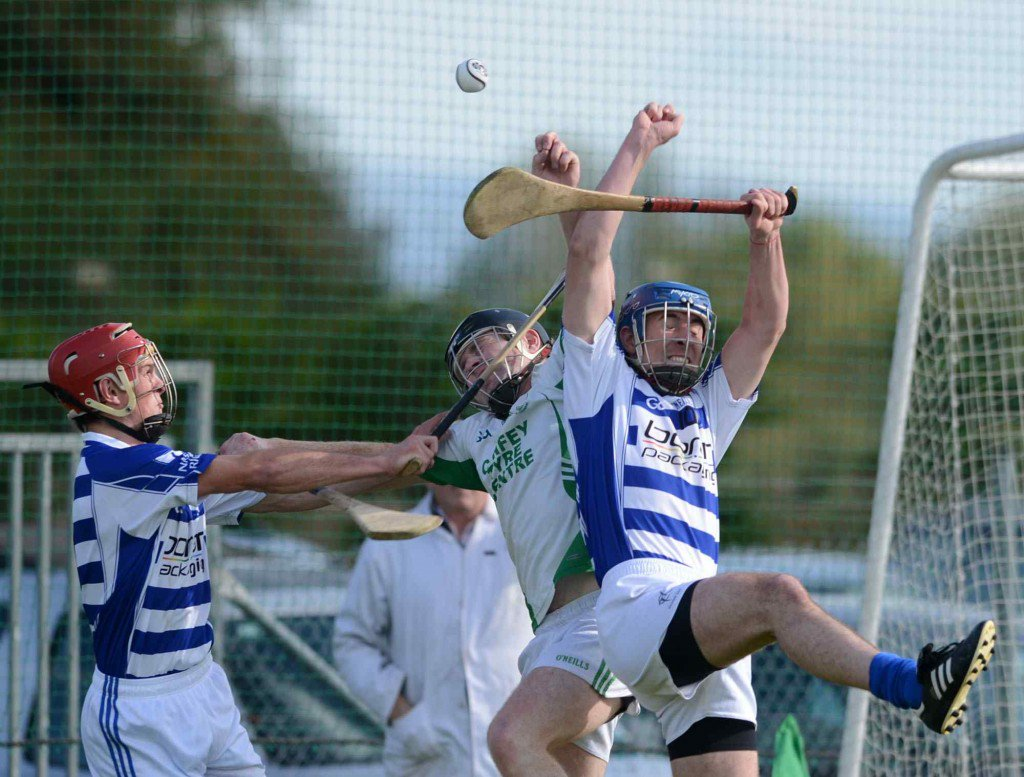hurley: (394, 265, 566, 480), (459, 164, 808, 245), (309, 483, 447, 544)
